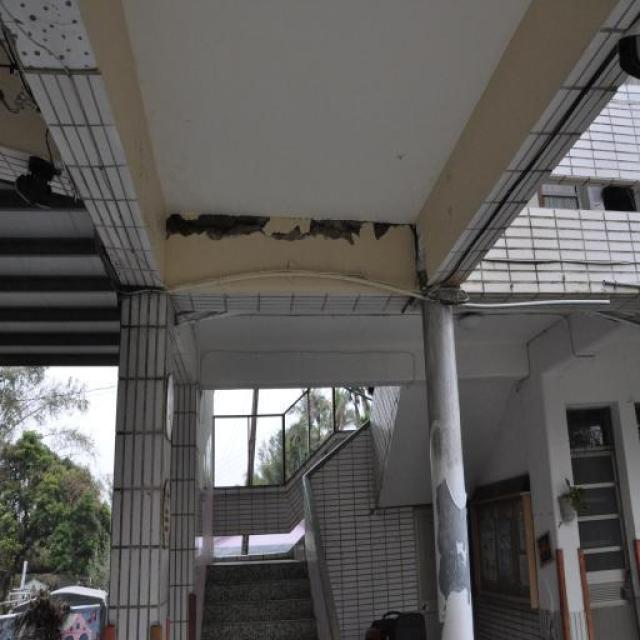D10: (166, 212, 270, 240), (270, 218, 366, 244), (409, 224, 428, 289), (372, 221, 400, 240)
